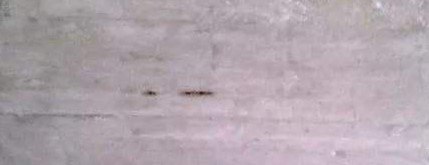Exposed reinforcement: (180, 90, 214, 97), (140, 89, 157, 97)
